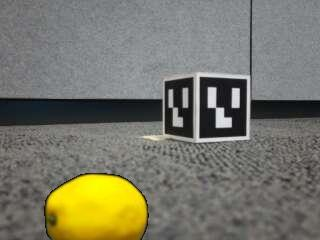lemon: (45, 173, 147, 239)
